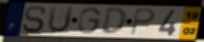4: (158, 8, 179, 37)
D: (99, 7, 128, 36)
G: (77, 7, 103, 35)
P: (130, 8, 157, 36)
S: (21, 4, 49, 34)
U: (46, 6, 75, 35)
